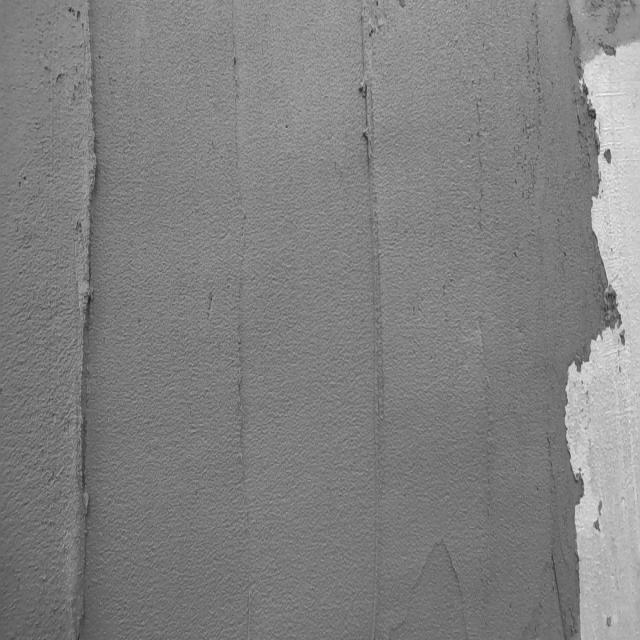trowels marks: (360, 9, 398, 640), (64, 5, 99, 640), (227, 34, 255, 598)
